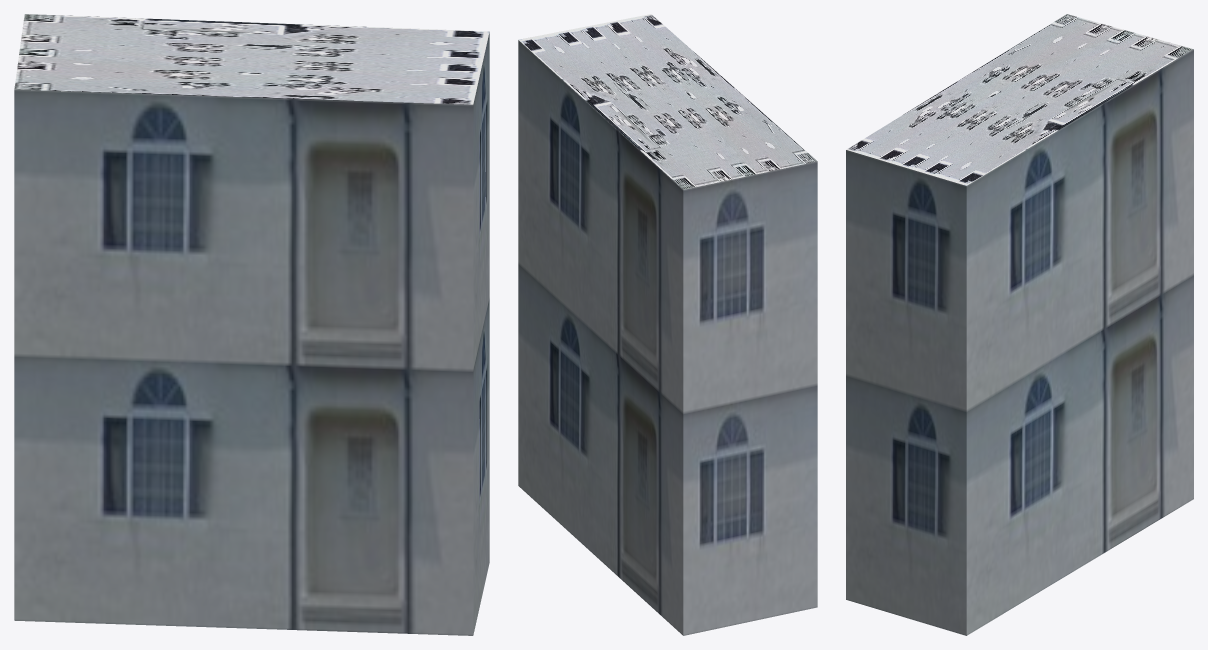
The model's file is ResTex__2223.fbx.
3 renders of one model, left to right at view 1: azimuth 30°, elevation 25°; view 2: azimuth 150°, elevation 25°; view 3: azimuth 270°, elevation 25°, orthographic. The views are drawn at different scales.
Parts seen in each view (by area): view 1: CityEngineMaterial_17_m, CityEngineMaterial_8_m; view 2: CityEngineMaterial_17_m, CityEngineMaterial_8_m; view 3: CityEngineMaterial_17_m, CityEngineMaterial_8_m.
Part boxes in pixels (left/top/right/bottom): CityEngineMaterial_17_m: left=14, top=32, right=489, bottom=635; CityEngineMaterial_8_m: left=14, top=14, right=489, bottom=104; CityEngineMaterial_17_m: left=518, top=40, right=817, bottom=635; CityEngineMaterial_8_m: left=518, top=14, right=817, bottom=189; CityEngineMaterial_17_m: left=846, top=49, right=1193, bottom=635; CityEngineMaterial_8_m: left=846, top=14, right=1193, bottom=185.
Bounding box in the file's own units: 4.92 × 6 × 4.2.
2 materials, 2 textured.
